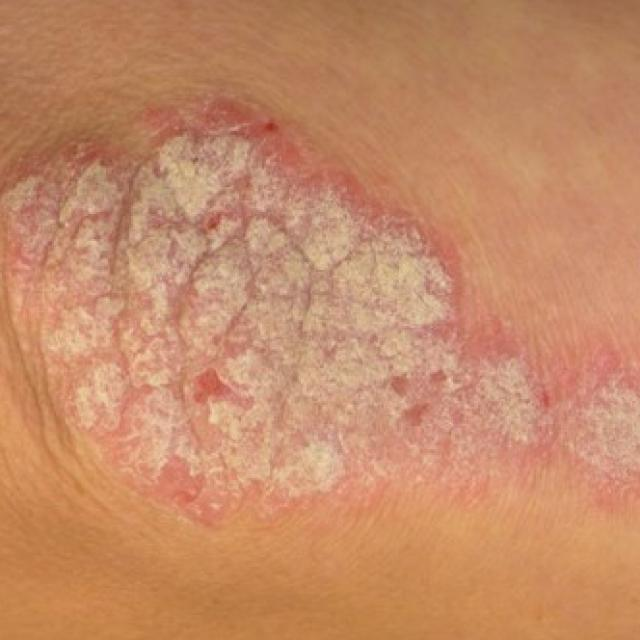Psoriasis: (0, 87, 453, 536), (451, 334, 640, 492)
